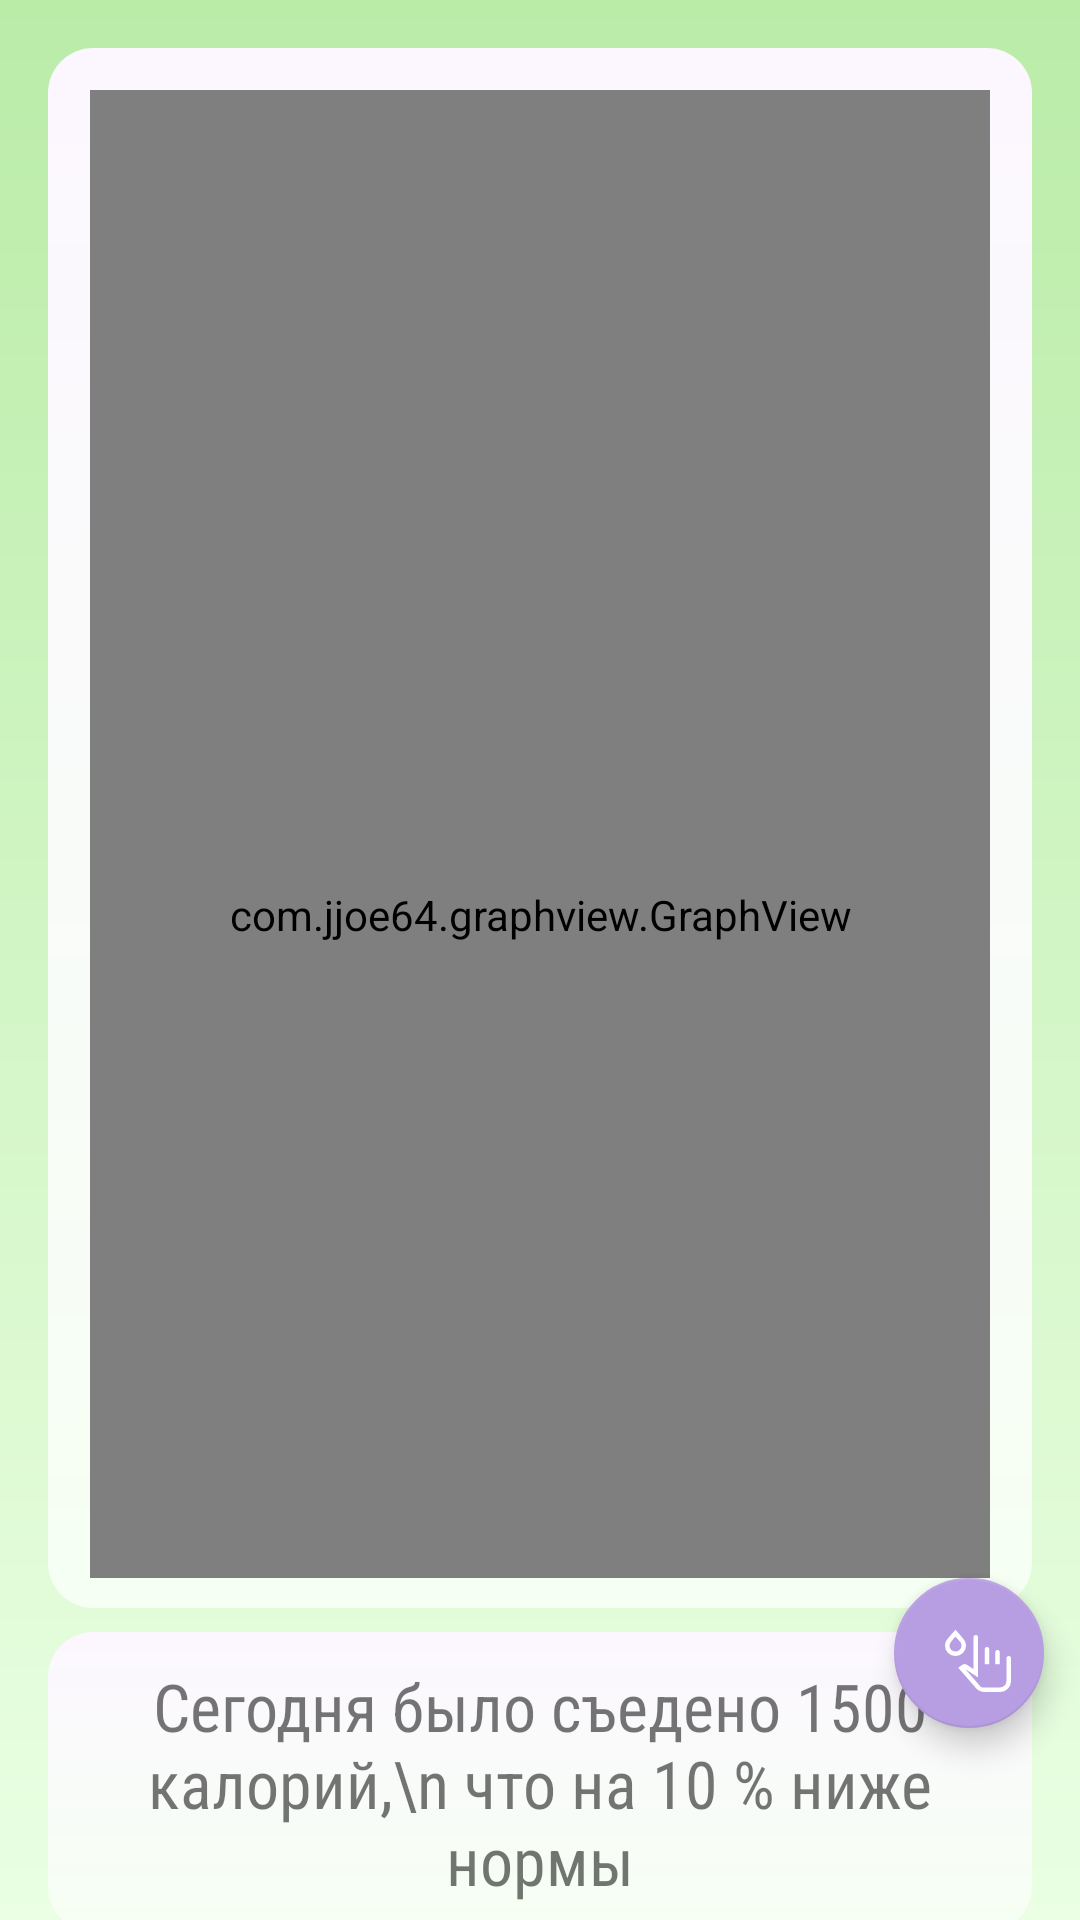

Point at icon controls on the screen. Image size 1080*1920, points as (x=x, y=y).
glucose: (x=969, y=1653)
